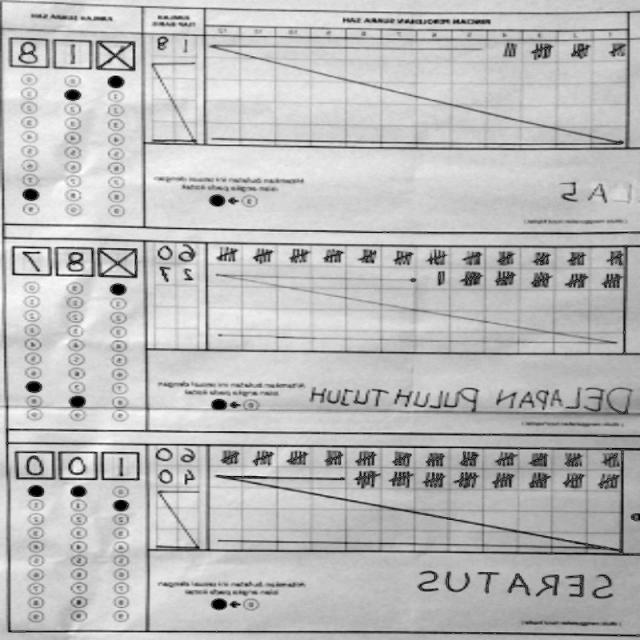Suara: (11, 443, 150, 482), (14, 243, 144, 284), (7, 35, 142, 64)
